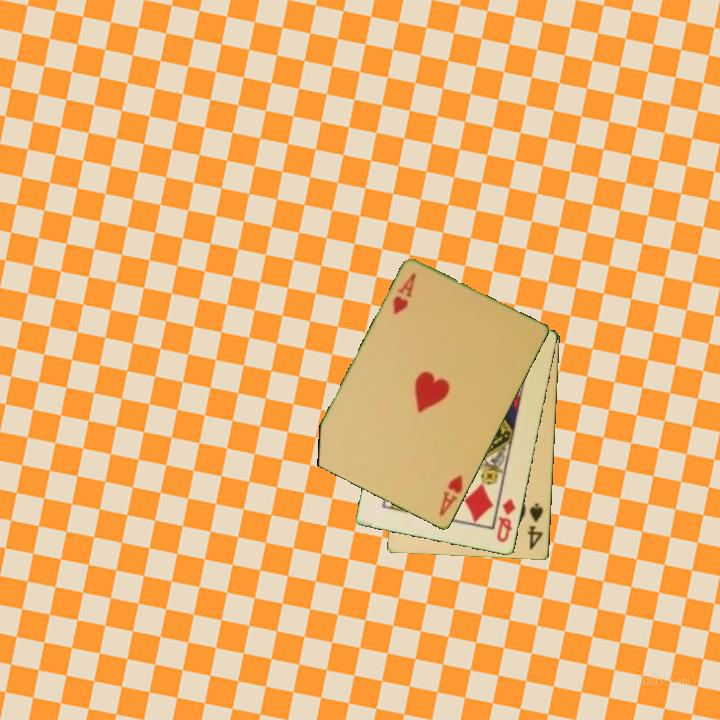4s: (525, 500, 546, 553)
Ah: (435, 471, 466, 520), (389, 270, 420, 317)
Qd: (494, 495, 519, 546)
